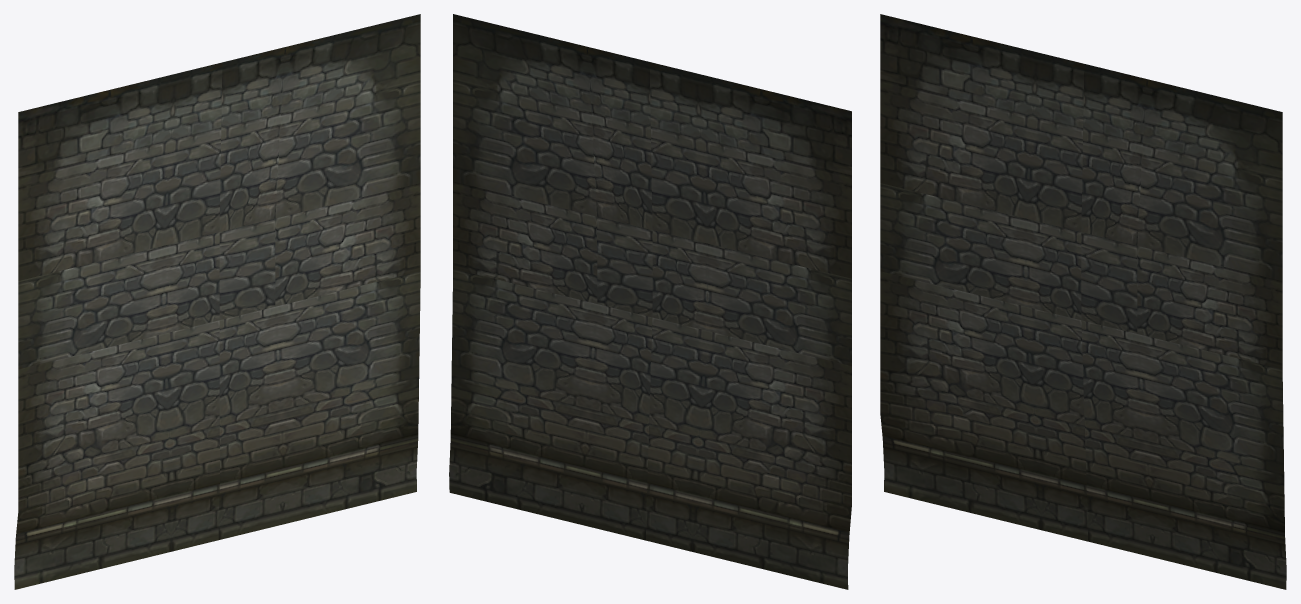
Rendered from DN_1_4_ldao07.FBX.
3 renders of one model, left to right at view 1: azimuth 30°, elevation 25°; view 2: azimuth 150°, elevation 25°; view 3: azimuth 330°, elevation 25°, orthographic.
Parts seen in each view (by area): view 1: DN_1_4_ldao07; view 2: DN_1_4_ldao07; view 3: DN_1_4_ldao07.
Boxes of the visible parts, x1,y1,x2,y2 form: DN_1_4_ldao07: [14, 14, 420, 589]; DN_1_4_ldao07: [449, 14, 851, 589]; DN_1_4_ldao07: [880, 14, 1286, 589].
Size of the model in its own units: 316 by 361 by 5.58.
